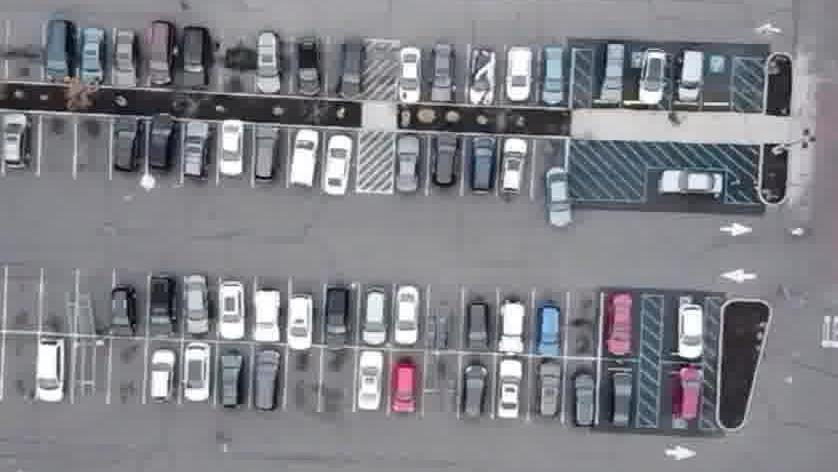car: (352, 348, 390, 415), (32, 336, 67, 406), (40, 17, 76, 82), (177, 25, 212, 90), (319, 132, 354, 197), (654, 166, 725, 198), (143, 19, 174, 88), (108, 116, 144, 175), (494, 360, 527, 424), (250, 350, 282, 416), (178, 344, 212, 406), (498, 135, 531, 198), (144, 112, 177, 175), (214, 349, 246, 412), (322, 287, 353, 352), (336, 36, 367, 100), (286, 130, 319, 190), (284, 293, 318, 351), (146, 275, 177, 338), (144, 345, 175, 408), (250, 126, 282, 187), (606, 291, 636, 356), (544, 166, 573, 231), (392, 282, 421, 347), (254, 28, 282, 95), (459, 360, 490, 420), (390, 359, 421, 419), (606, 364, 635, 428), (252, 287, 284, 345), (636, 48, 669, 104), (358, 284, 386, 350), (216, 281, 246, 342), (393, 134, 422, 196), (431, 132, 461, 191), (466, 135, 495, 196), (496, 297, 527, 354), (504, 44, 533, 104), (427, 42, 456, 102), (0, 112, 30, 170), (570, 367, 598, 429), (182, 120, 211, 179), (673, 364, 702, 423), (596, 42, 625, 100), (77, 26, 106, 84), (109, 284, 139, 340), (677, 302, 705, 361), (538, 45, 565, 106), (296, 34, 322, 97), (395, 44, 422, 104), (182, 272, 207, 336), (469, 47, 497, 104), (536, 360, 563, 419), (219, 119, 245, 180), (674, 49, 703, 102), (534, 303, 563, 356), (112, 28, 137, 89), (466, 301, 490, 354)
